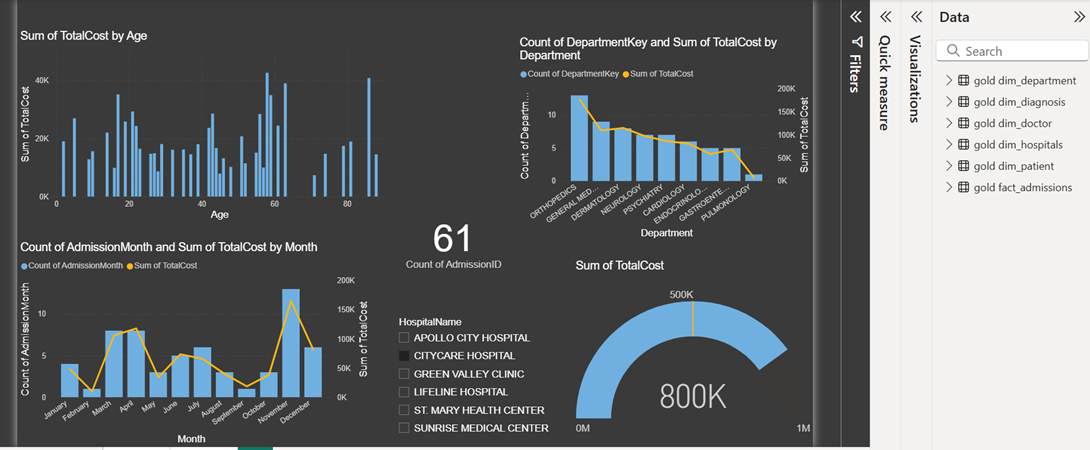

Layout of this report page (visuals, bound fields, positions):
{"tool":"powerbi","page":{"name":"Page 1","canvas":[1280,720],"ordinal":0},"visuals":[{"type":"lineClusteredColumnComboChart","fields":{"Category":["gold dim_patient.Age"],"Y":["Sum(gold fact_admissions.TotalCost)"]},"box":[0,48.9,601.6,311.1],"z":0},{"type":"lineStackedColumnComboChart","fields":{"Y":["CountNonNull(gold fact_admissions.AdmissionMonth)"],"Category":["gold fact_admissions.AdmissionDate.Variation.Date Hierarchy.Month"],"Y2":["Sum(gold fact_admissions.TotalCost)"]},"box":[0,388.2,571.5,332.3],"z":1000},{"type":"lineClusteredColumnComboChart","fields":{"Category":["gold dim_department.Department"],"Y2":["Sum(gold fact_admissions.TotalCost)"],"Y":["CountNonNull(gold fact_admissions.DepartmentKey)"]},"box":[803.7,58.4,476.8,330],"z":2000},{"type":"gauge","fields":{"Y":["Sum(gold fact_admissions.TotalCost)"]},"box":[893.7,418.4,386.8,301.6],"z":3000},{"type":"slicer","fields":{"Values":["gold dim_hospitals.HospitalName"]},"box":[601.6,503.7,259,216.3],"z":4000},{"type":"card","fields":{"Values":["CountNonNull(gold fact_admissions.AdmissionID)"]},"box":[614.2,304.7,175.3,165.8],"z":4001}]}

Visuals, with their boxes on the page's 1280x720 design canvas (x1, y1, x2, y2). These are canvas units, not pixel positions in the 1090x450 screenshot, which may show the page scaled, cropped or inside an application window:
lineClusteredColumnComboChart - gold dim_patient.Age x Sum(gold fact_admissions.TotalCost): (left=0, top=49, right=602, bottom=360)
lineStackedColumnComboChart - CountNonNull(gold fact_admissions.AdmissionMonth) x gold fact_admissions.AdmissionDate.Variation.Date Hierarchy.Month: (left=0, top=388, right=572, bottom=720)
lineClusteredColumnComboChart - gold dim_department.Department x Sum(gold fact_admissions.TotalCost): (left=804, top=58, right=1280, bottom=388)
gauge - Sum(gold fact_admissions.TotalCost): (left=894, top=418, right=1280, bottom=720)
slicer - gold dim_hospitals.HospitalName: (left=602, top=504, right=861, bottom=720)
card - CountNonNull(gold fact_admissions.AdmissionID): (left=614, top=305, right=790, bottom=470)
